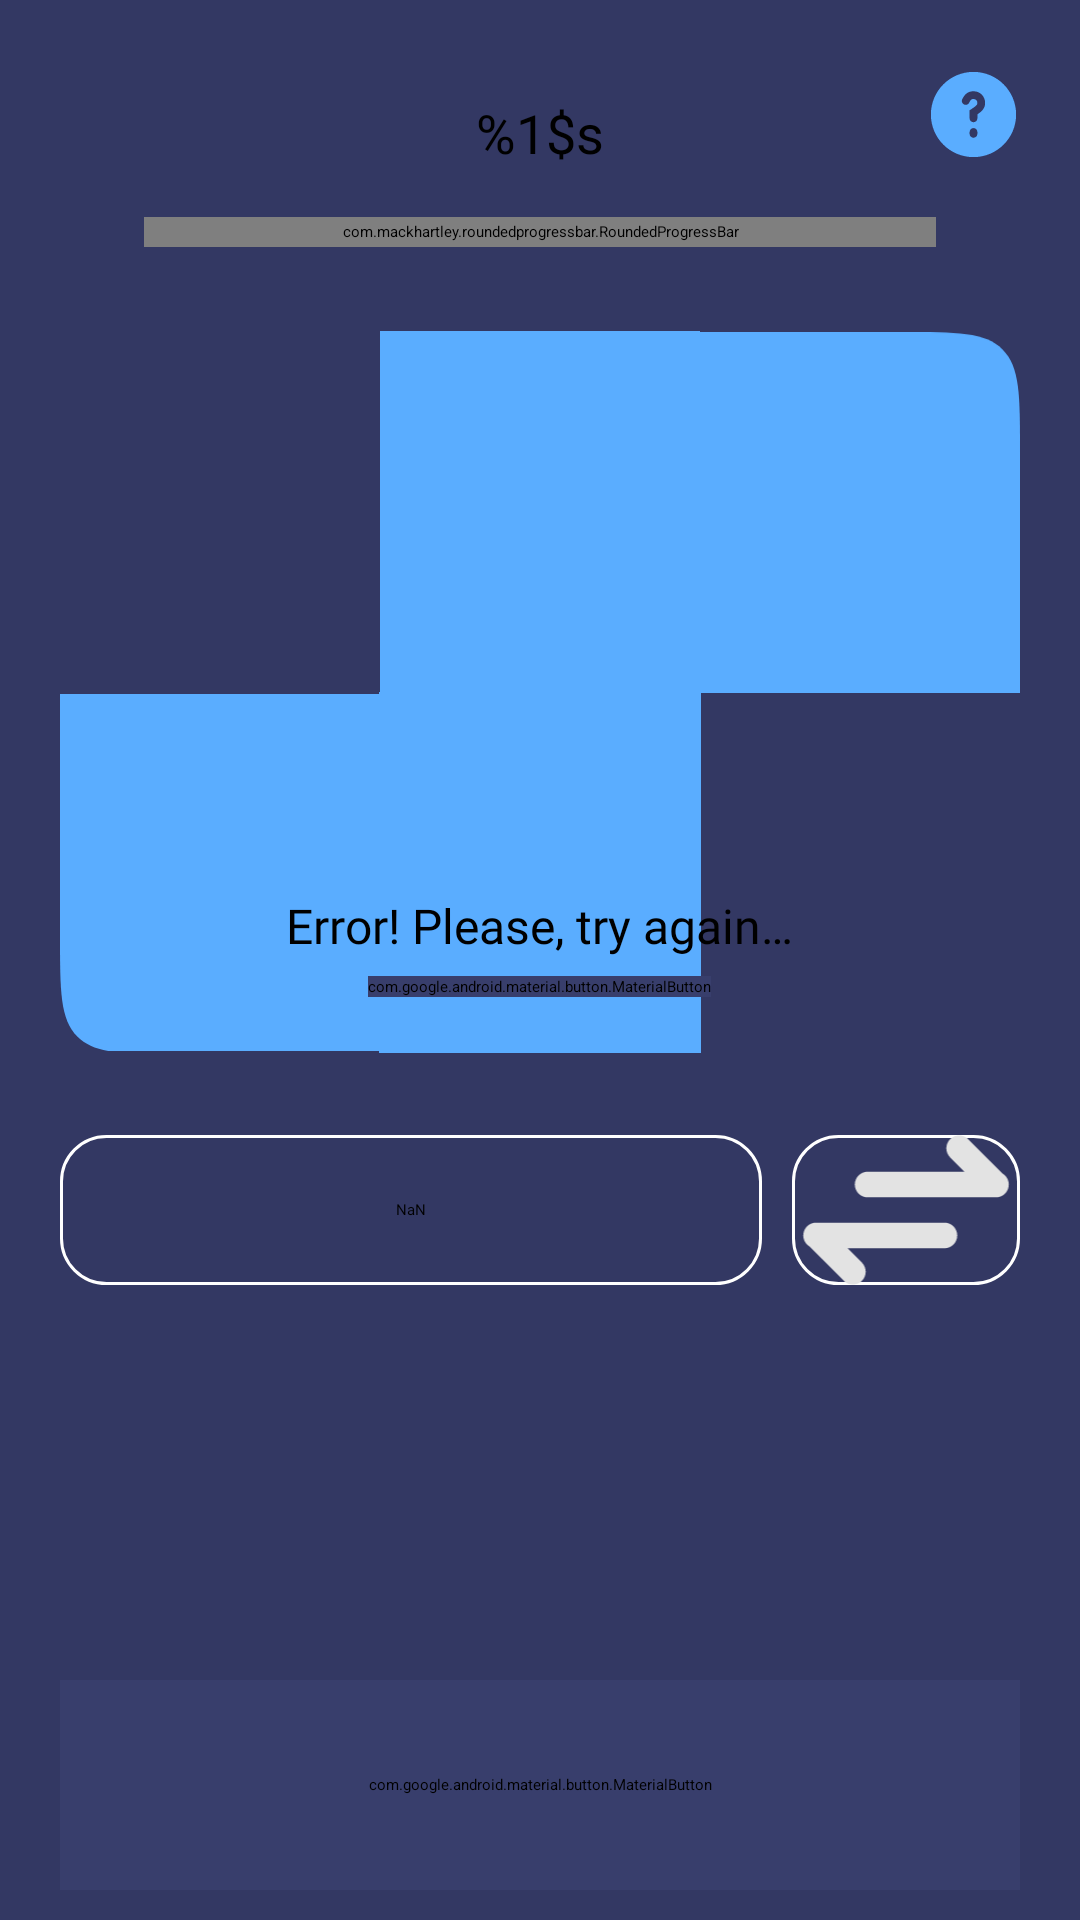

Named icons in this screenshot (1080 x 1920) and their bounding boxes, (x1, y1, x2, y2):
Change country image button: (792, 1135, 1020, 1285)
Hint button: (931, 72, 1016, 157)
